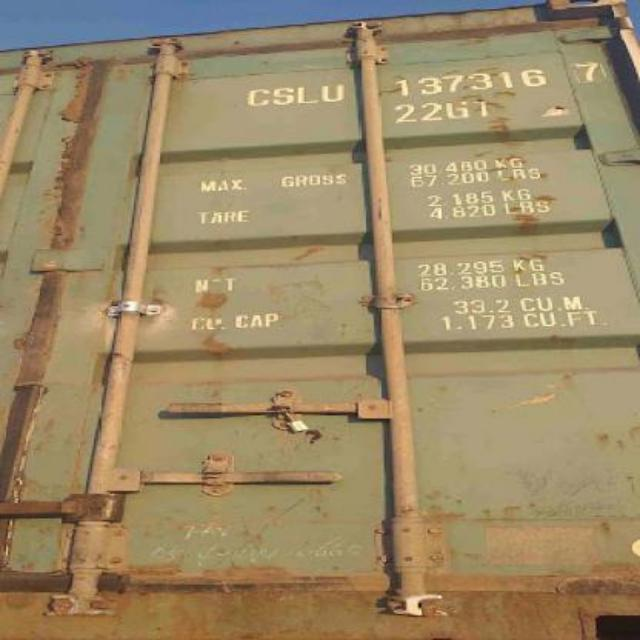1: (496, 68, 518, 90), (394, 78, 414, 96)
3: (414, 77, 444, 97), (468, 72, 496, 92)
6: (520, 69, 550, 87)
7: (572, 62, 602, 82), (446, 74, 468, 94)
C: (244, 89, 270, 105)
L: (294, 86, 320, 104)
S: (270, 89, 294, 105)
U: (322, 83, 346, 103)
